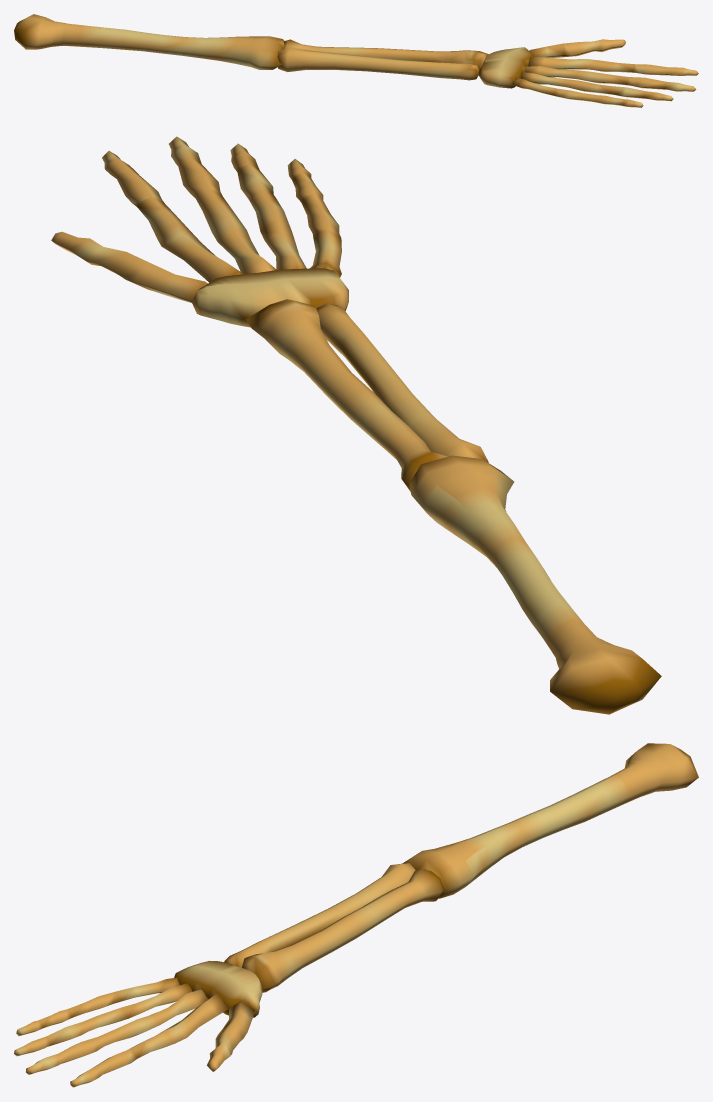
Rendered from ArmBones.fbx.
The picture shows the model from 3 angles, top to bottom: view 1: azimuth 30°, elevation 25°; view 2: azimuth 150°, elevation 25°; view 3: azimuth 270°, elevation 25°; orthographic projection. The views are drawn at different scales.
Visible parts, largest first — view 1: SkeletonArm; view 2: SkeletonArm; view 3: SkeletonArm.
Boxes of the visible parts, x1,y1,x2,y2 form: SkeletonArm: [14, 14, 698, 107]; SkeletonArm: [51, 136, 661, 714]; SkeletonArm: [14, 743, 698, 1087].
Bounding box in the file's own units: 79.13 × 4.48 × 69.26.
